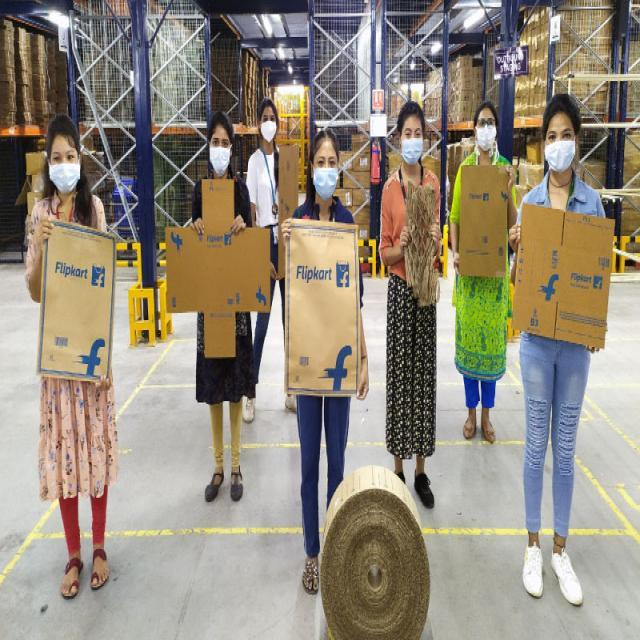cardboxes: (278, 218, 367, 402), (40, 220, 120, 390)
